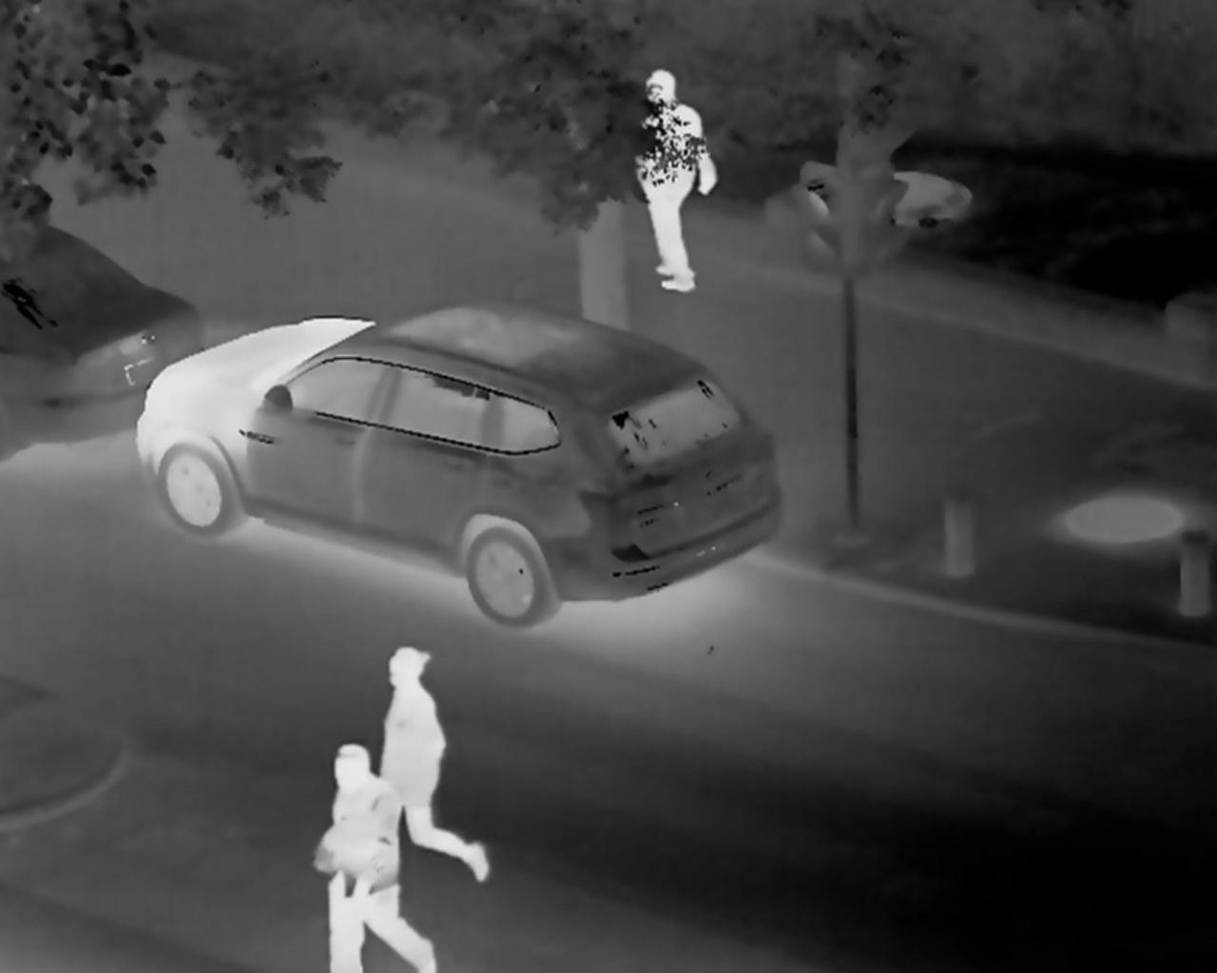person: (391, 644, 500, 899), (620, 58, 731, 305), (315, 714, 399, 973)
